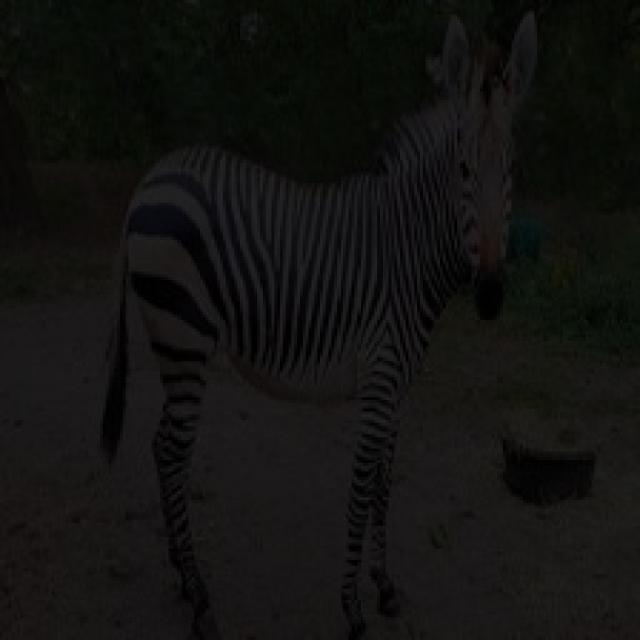bear: (101, 7, 559, 611)
